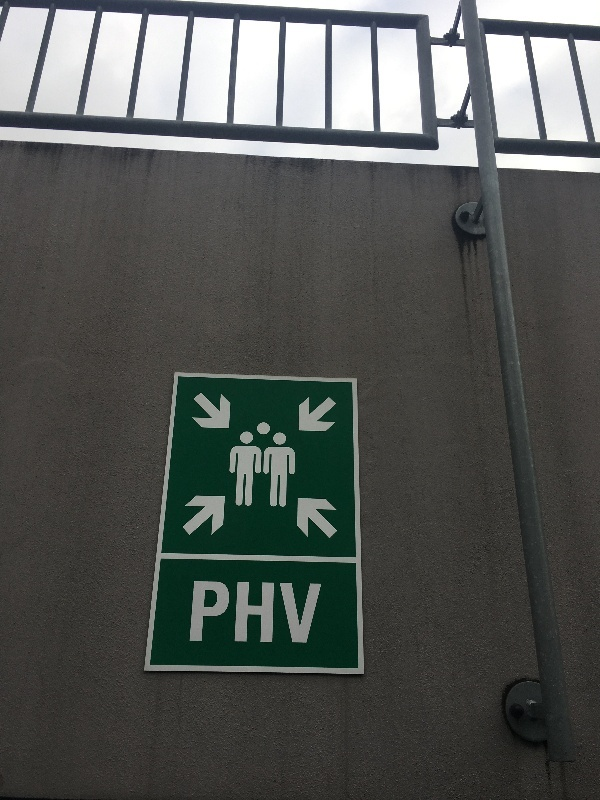text: (193, 580, 208, 648), (209, 580, 224, 648), (225, 580, 240, 648), (241, 580, 256, 648), (257, 580, 272, 648), (273, 580, 288, 648), (289, 580, 304, 648), (305, 580, 320, 648), (321, 580, 323, 648)
